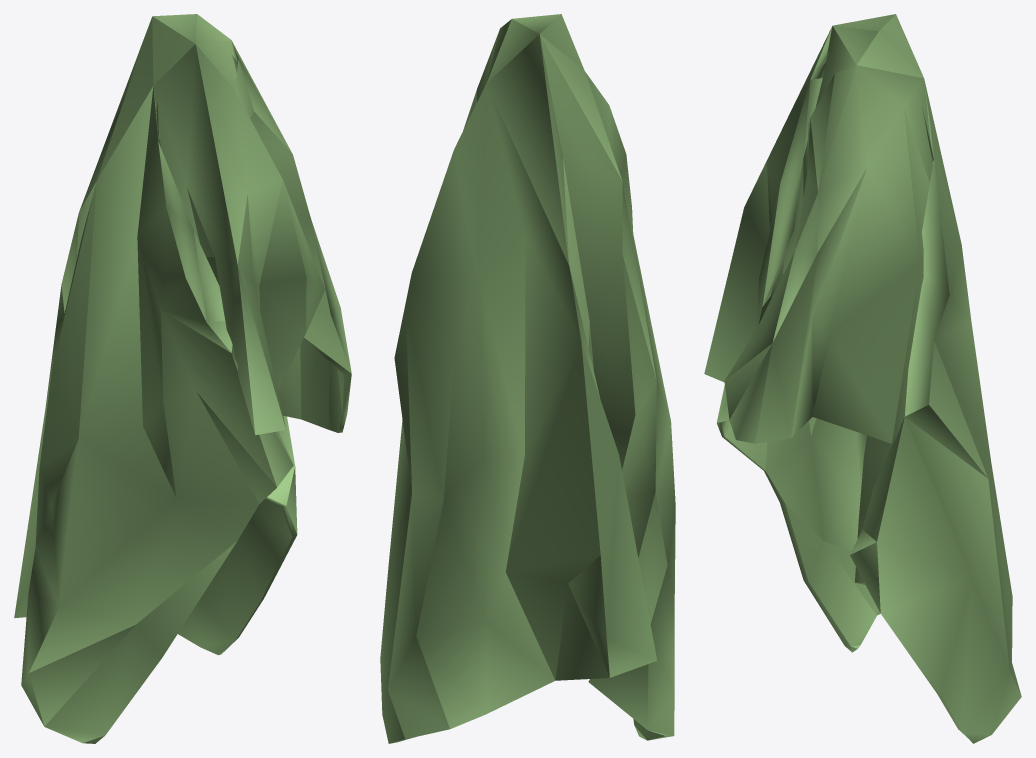
The model's file is Cloth01.fbx.
3 views of the same model, side by side, from view 1: azimuth 30°, elevation 25°; view 2: azimuth 150°, elevation 25°; view 3: azimuth 270°, elevation 25° (orthographic). The views are drawn at different scales.
Parts seen in each view (by area): view 1: Cloth01; view 2: Cloth01; view 3: Cloth01.
Part boxes in pixels (x1,y1,x2,y2): Cloth01: (14, 14, 351, 743); Cloth01: (380, 14, 675, 743); Cloth01: (704, 14, 1021, 743).
Bounding box in the file's own units: 59.03 × 147 × 62.51.
